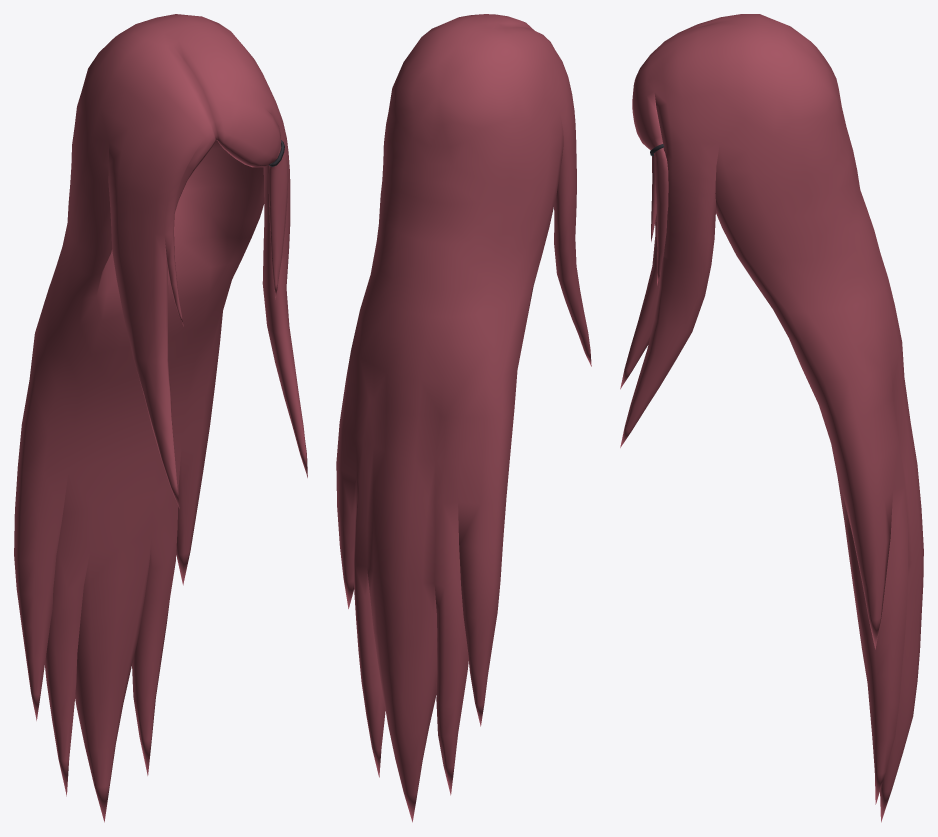
Rendered from Kushina.obj.
3 views of the same model, side by side, from view 1: azimuth 30°, elevation 25°; view 2: azimuth 150°, elevation 25°; view 3: azimuth 270°, elevation 25° (orthographic). The views are drawn at different scales.
Visible parts, largest first — view 1: SK_CHR_Woman_StraightHair_L_02.mo; view 2: SK_CHR_Woman_StraightHair_L_02.mo; view 3: SK_CHR_Woman_StraightHair_L_02.mo.
Part boxes in pixels (x1,y1,x2,y2): SK_CHR_Woman_StraightHair_L_02.mo: [14, 14, 307, 822]; SK_CHR_Woman_StraightHair_L_02.mo: [336, 14, 591, 822]; SK_CHR_Woman_StraightHair_L_02.mo: [620, 14, 923, 822].
Size of the model in its own units: 0.2187 by 0.9428 by 0.3252.
2 materials, 2 textured.
